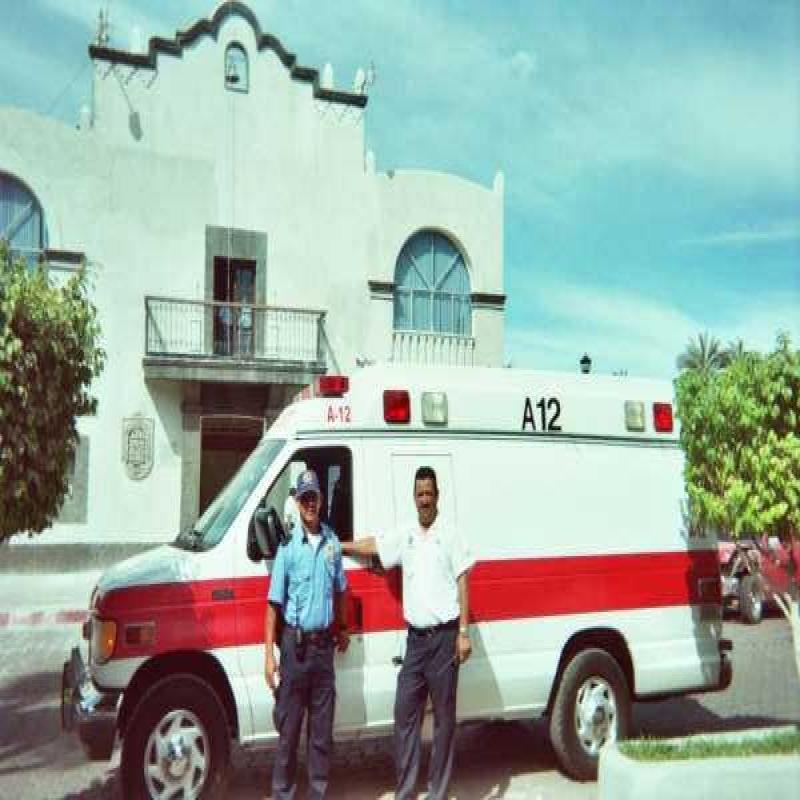AmbulanceSiren: (378, 364, 458, 444), (626, 391, 684, 443)
